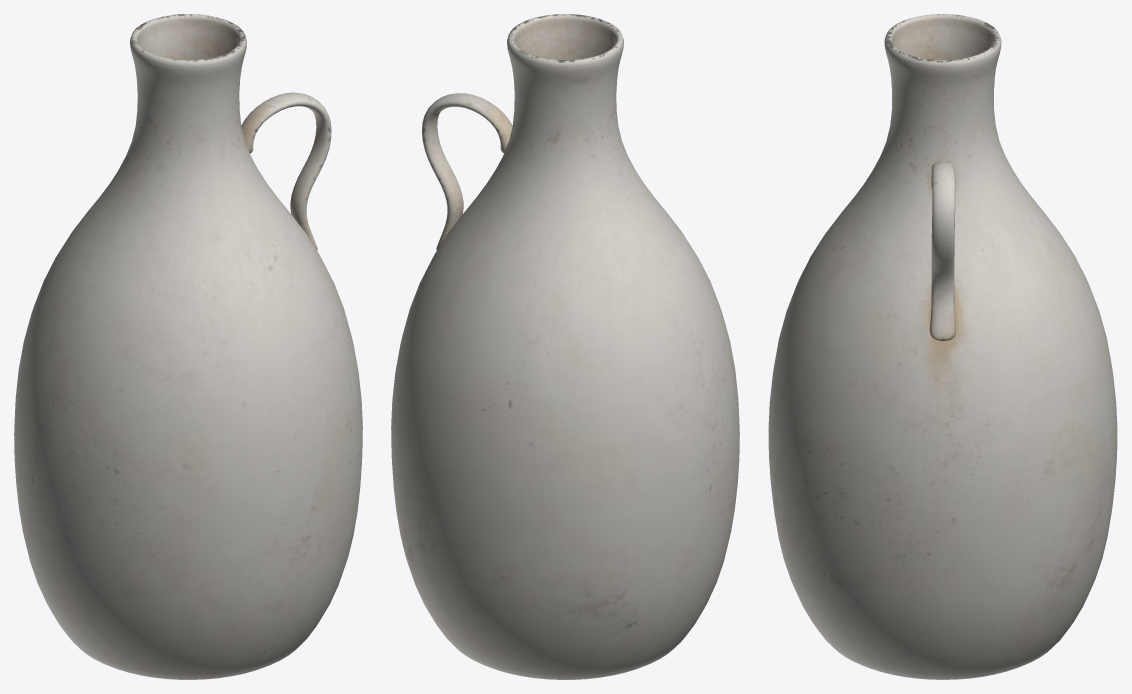
Rendered from ceramic_vase_04.glb.
3 renders of one model, left to right at view 1: azimuth 30°, elevation 25°; view 2: azimuth 150°, elevation 25°; view 3: azimuth 270°, elevation 25°, orthographic.
Parts seen in each view (by area): view 1: ceramic_vase_04; view 2: ceramic_vase_04; view 3: ceramic_vase_04.
Boxes of the visible parts, x1,y1,x2,y2 form: ceramic_vase_04: (14,14,362,679); ceramic_vase_04: (391,14,739,679); ceramic_vase_04: (768,14,1117,679).
Size of the model in its own units: 0.1811 by 0.3419 by 0.1811.
Materials: 1 (1 with a texture image).
